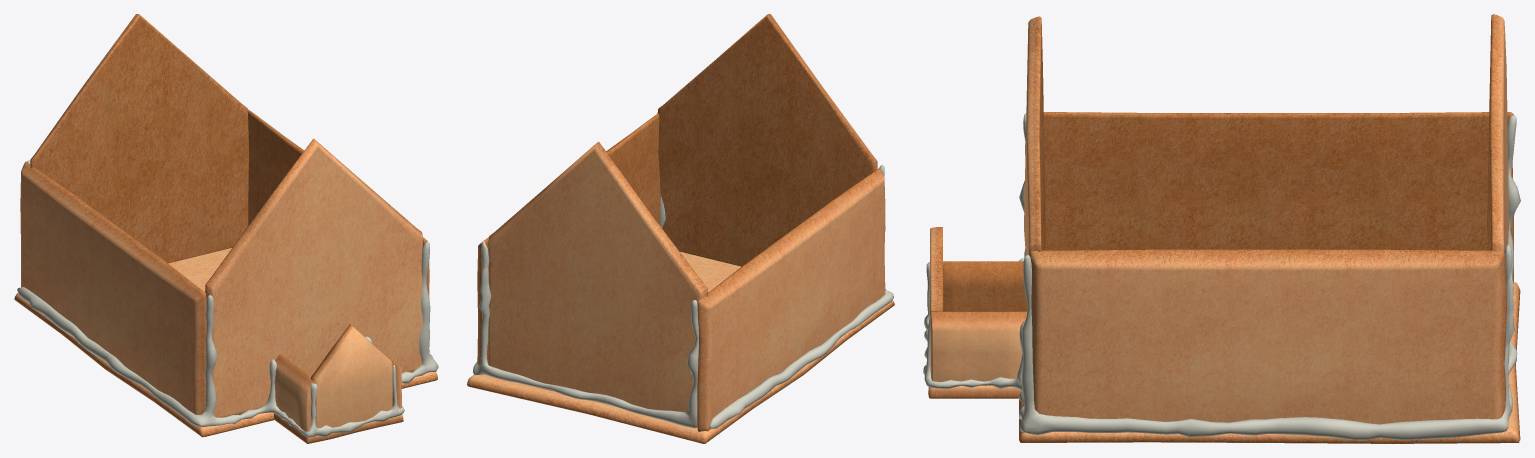
The model's file is House_Main_Frame.glb.
3 renders of one model, left to right at view 1: azimuth 30°, elevation 25°; view 2: azimuth 150°, elevation 25°; view 3: azimuth 270°, elevation 25°, orthographic. The views are drawn at different scales.
Visible parts, largest first — view 1: House_Main_Frame, House_Main_Piping; view 2: House_Main_Frame, House_Main_Piping; view 3: House_Main_Frame, House_Main_Piping.
Part boxes in pixels (box(x1,y1,x2,y2)): House_Main_Frame: box(14, 14, 437, 443); House_Main_Piping: box(17, 160, 438, 437); House_Main_Frame: box(467, 14, 894, 443); House_Main_Piping: box(473, 165, 893, 428); House_Main_Frame: box(928, 14, 1520, 443); House_Main_Piping: box(923, 113, 1520, 440).
Size of the model in its own units: 0.0938 by 0.0933 by 0.1438.
Materials: 7 (6 with a texture image).
